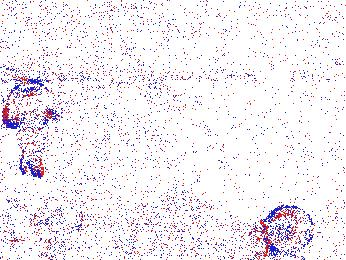flame jellyfish: (5, 82, 61, 179), (250, 204, 315, 255), (33, 195, 86, 249)
